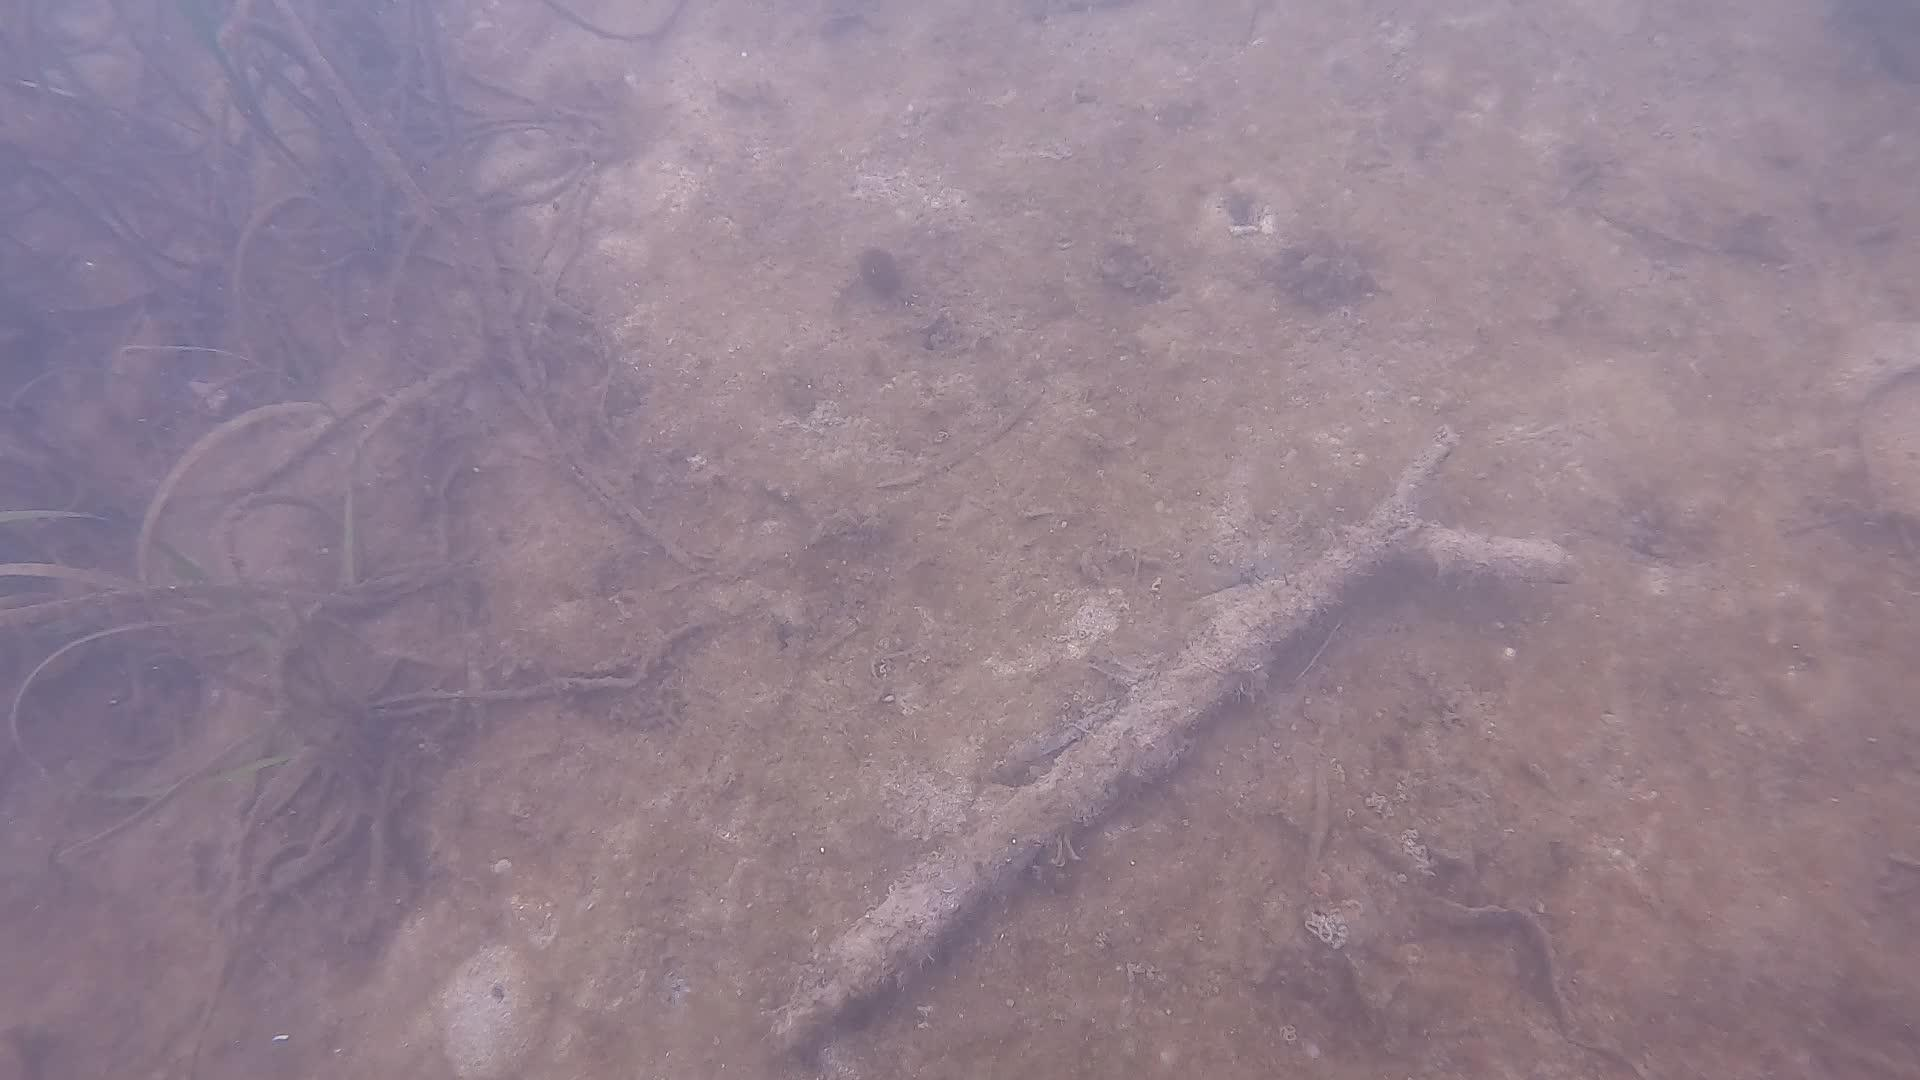wood: (767, 423, 1584, 1056)
